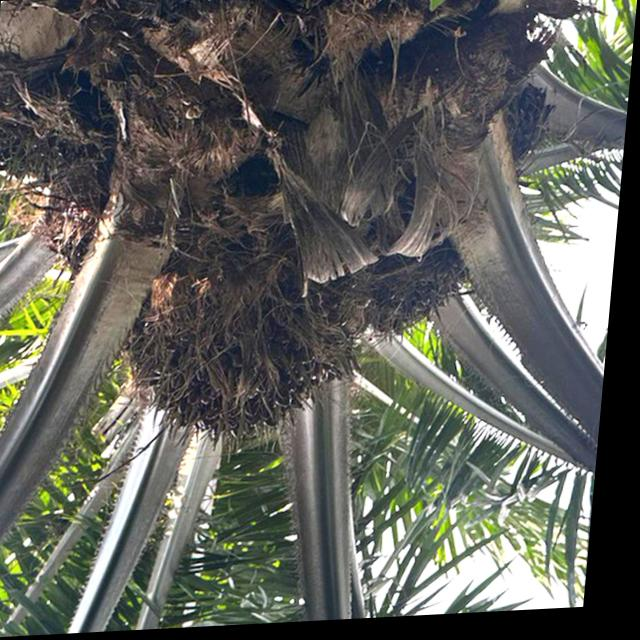unripe: (111, 180, 382, 462), (357, 215, 505, 346)
